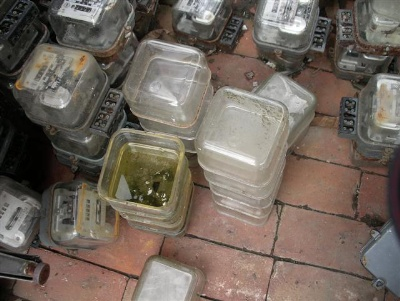box: (194, 86, 289, 189), (122, 40, 213, 128), (97, 127, 185, 216), (252, 70, 315, 144), (130, 254, 205, 301)
